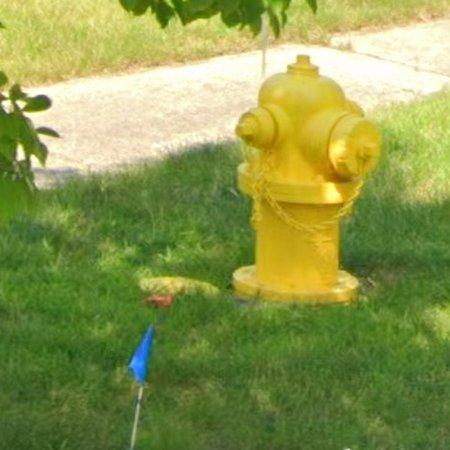a fire hydrant: (233, 55, 381, 303)
